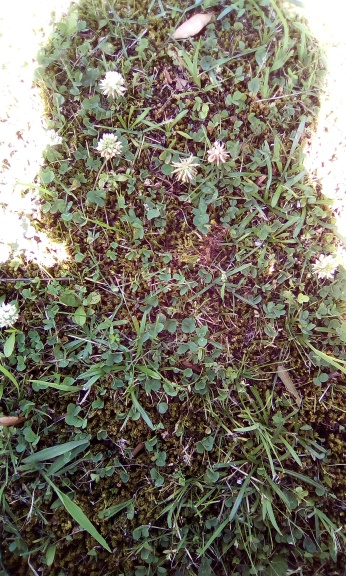4leaf: (192, 204, 210, 228)
